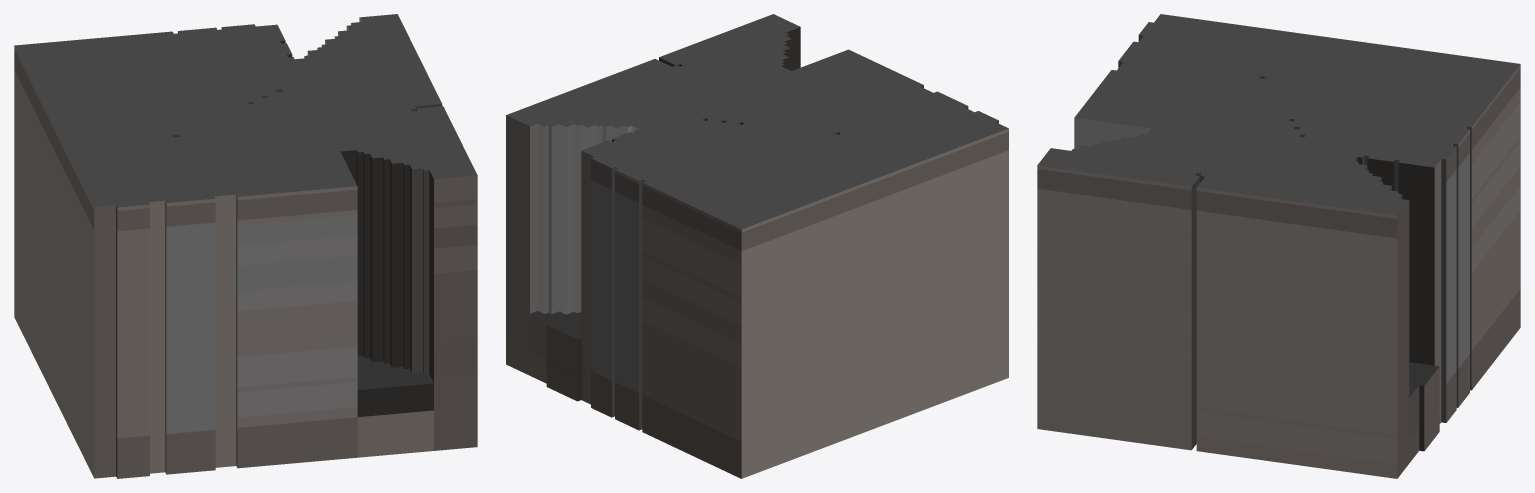
File: t_-1_3.far.glb
3 views of the same model, side by side, from view 1: azimuth 30°, elevation 25°; view 2: azimuth 150°, elevation 25°; view 3: azimuth 270°, elevation 25° (orthographic). The views are drawn at different scales.
Parts seen in each view (by area): view 1: opaque; view 2: opaque; view 3: opaque.
Boxes of the visible parts, box(x1,y1,x2,y2) form: opaque: box(14, 14, 477, 478); opaque: box(506, 14, 1008, 478); opaque: box(1037, 14, 1520, 478).
Size of the model in its own units: 44.02 by 26.85 by 44.65.
1 material, 1 textured.
